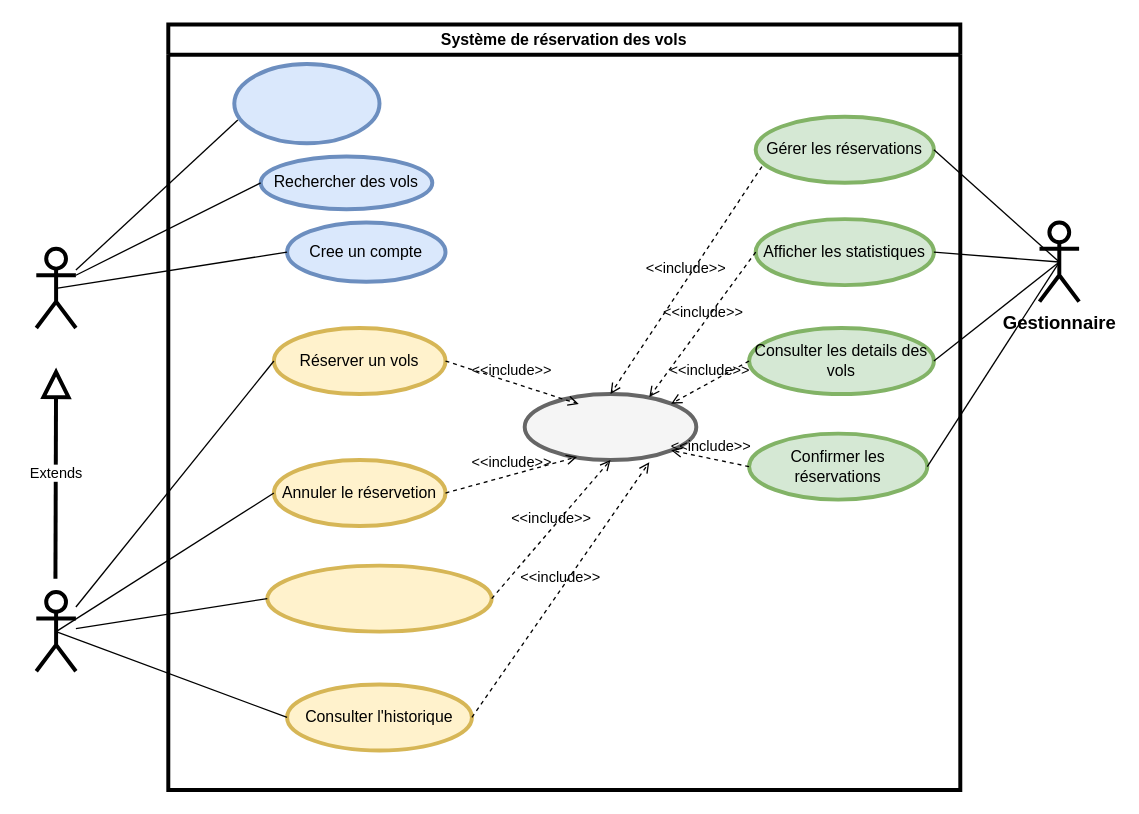
This 1139x814 diagram has some shape labels left out. Here are the shapes that lost their labels. From the top down, the centre of each, then its label:
At (306,103): "Consulter les vols".
At (55,287): "Visiteur".
At (610,426): "S'authentifier".
At (379,598): "Afficher l’état de sa réservation".
At (55,631): "Client".
